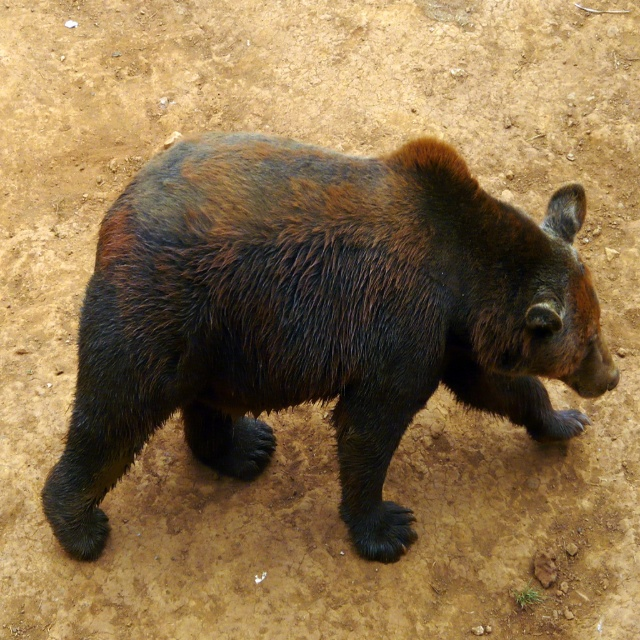Brown bear: (40, 132, 618, 565)
